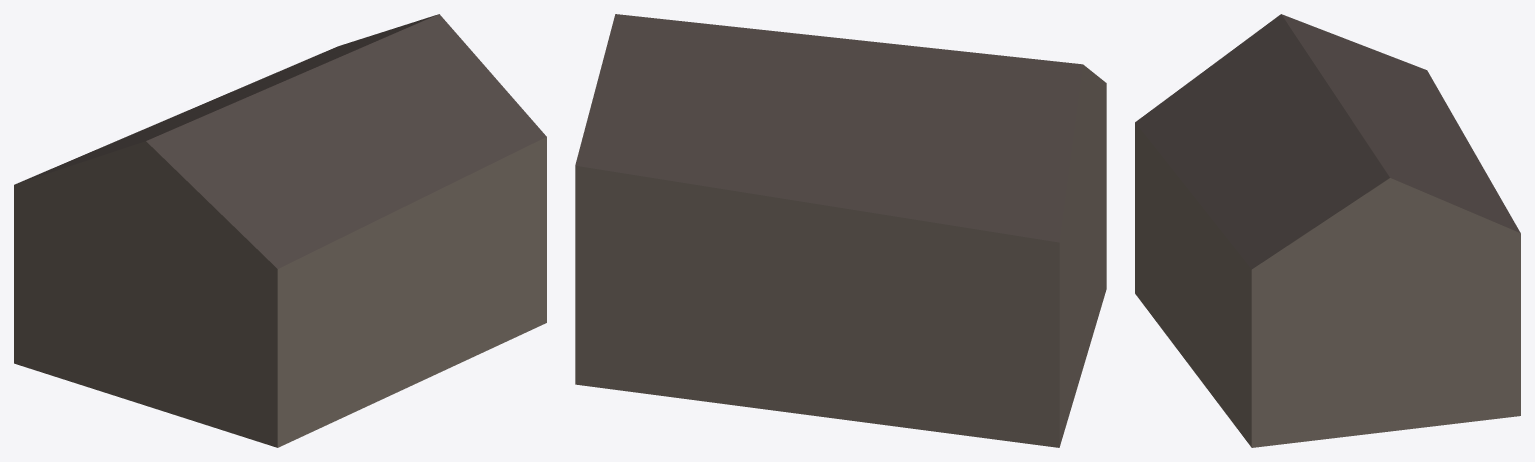
3 views of the same model, side by side, from view 1: azimuth 30°, elevation 25°; view 2: azimuth 150°, elevation 25°; view 3: azimuth 270°, elevation 25° (orthographic). The views are drawn at different scales.
Parts seen in each view (by area): view 1: HP-w1196657314; view 2: HP-w1196657314; view 3: HP-w1196657314.
Part boxes in pixels (x1,y1,x2,y2): HP-w1196657314: [14, 14, 546, 447]; HP-w1196657314: [575, 14, 1106, 447]; HP-w1196657314: [1135, 14, 1520, 447].
Size of the model in its own units: 15.49 by 8.88 by 12.24.
